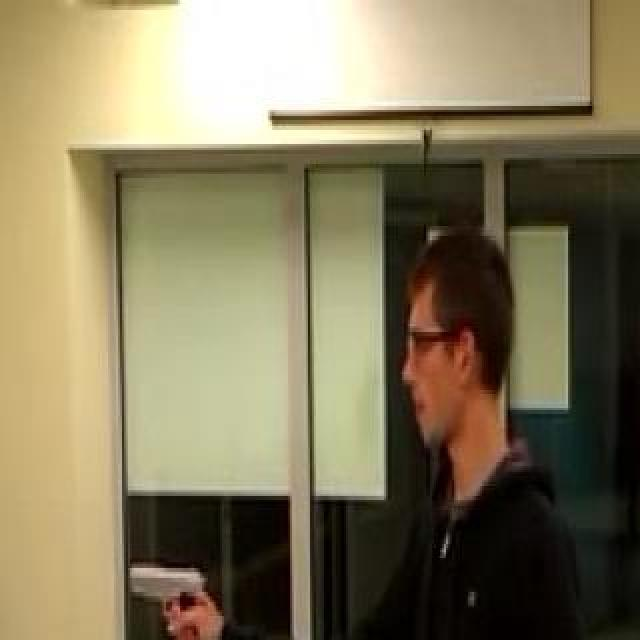Guns: (121, 559, 225, 623)
